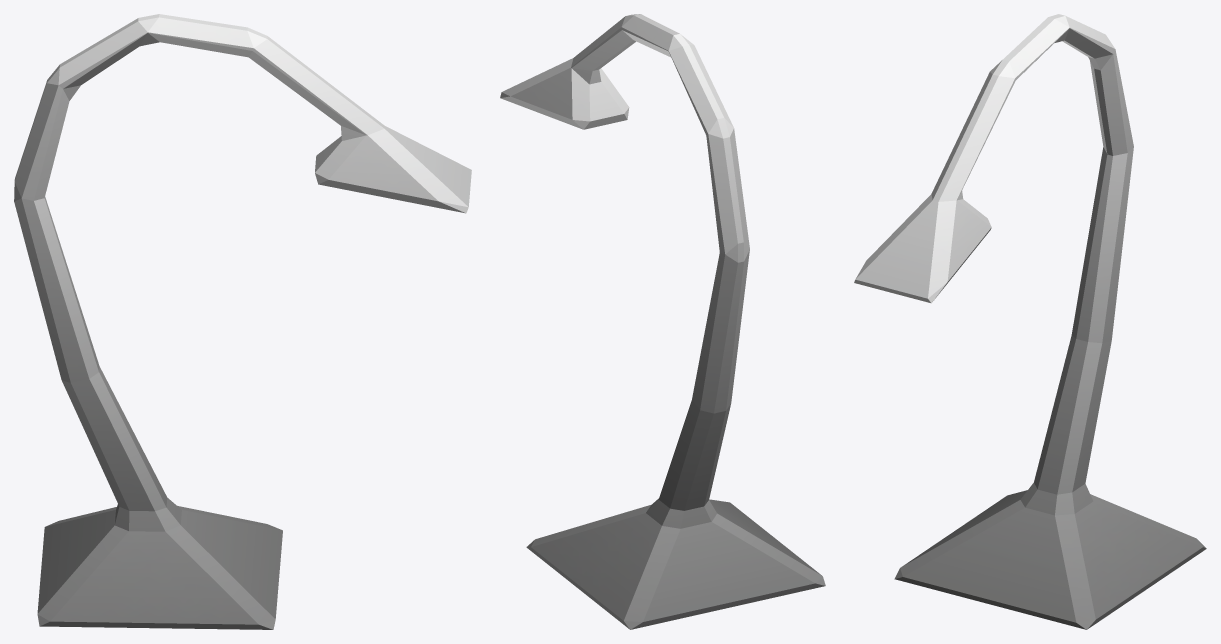
Rendered from Lamp.fbx.
The picture shows the model from 3 angles, left to right: view 1: azimuth 30°, elevation 25°; view 2: azimuth 150°, elevation 25°; view 3: azimuth 270°, elevation 25°; orthographic projection. The views are drawn at different scales.
Parts seen in each view (by area): view 1: Lamp; view 2: Lamp; view 3: Lamp.
Part boxes in pixels (box(x1,y1,x2,y2)): Lamp: box(14, 14, 471, 629); Lamp: box(500, 14, 825, 629); Lamp: box(854, 14, 1206, 629).
Bounding box in the file's own units: 77.69 × 108 × 63.25.
Materials: 1 (1 with a texture image).
